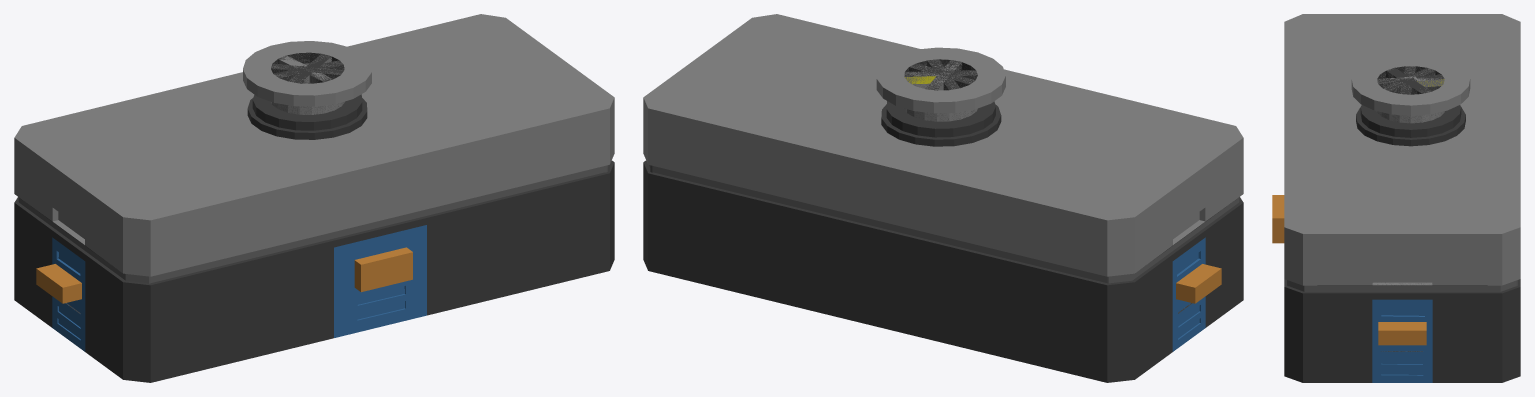
File: Prop_Lootbox.fbx
3 views of the same model, side by side, from view 1: azimuth 30°, elevation 25°; view 2: azimuth 150°, elevation 25°; view 3: azimuth 270°, elevation 25° (orthographic). The views are drawn at different scales.
Parts seen in each view (by area): view 1: Cube; view 2: Cube; view 3: Cube.
Part boxes in pixels (x1,y1,x2,y2): Cube: (14, 14, 614, 382); Cube: (643, 14, 1243, 382); Cube: (1272, 14, 1520, 382).
Size of the model in its own units: 475 by 179 by 210.
